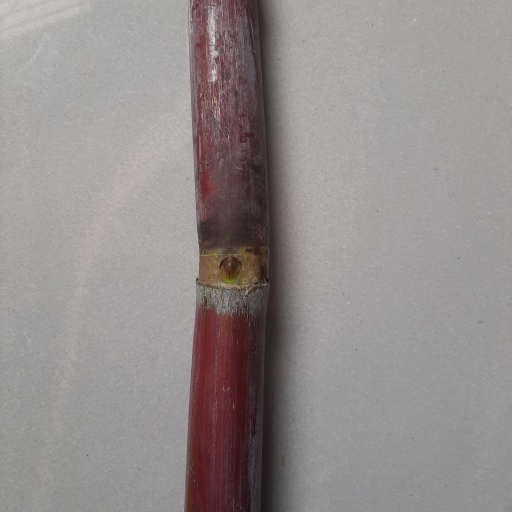Bud: (217, 256, 243, 283)
